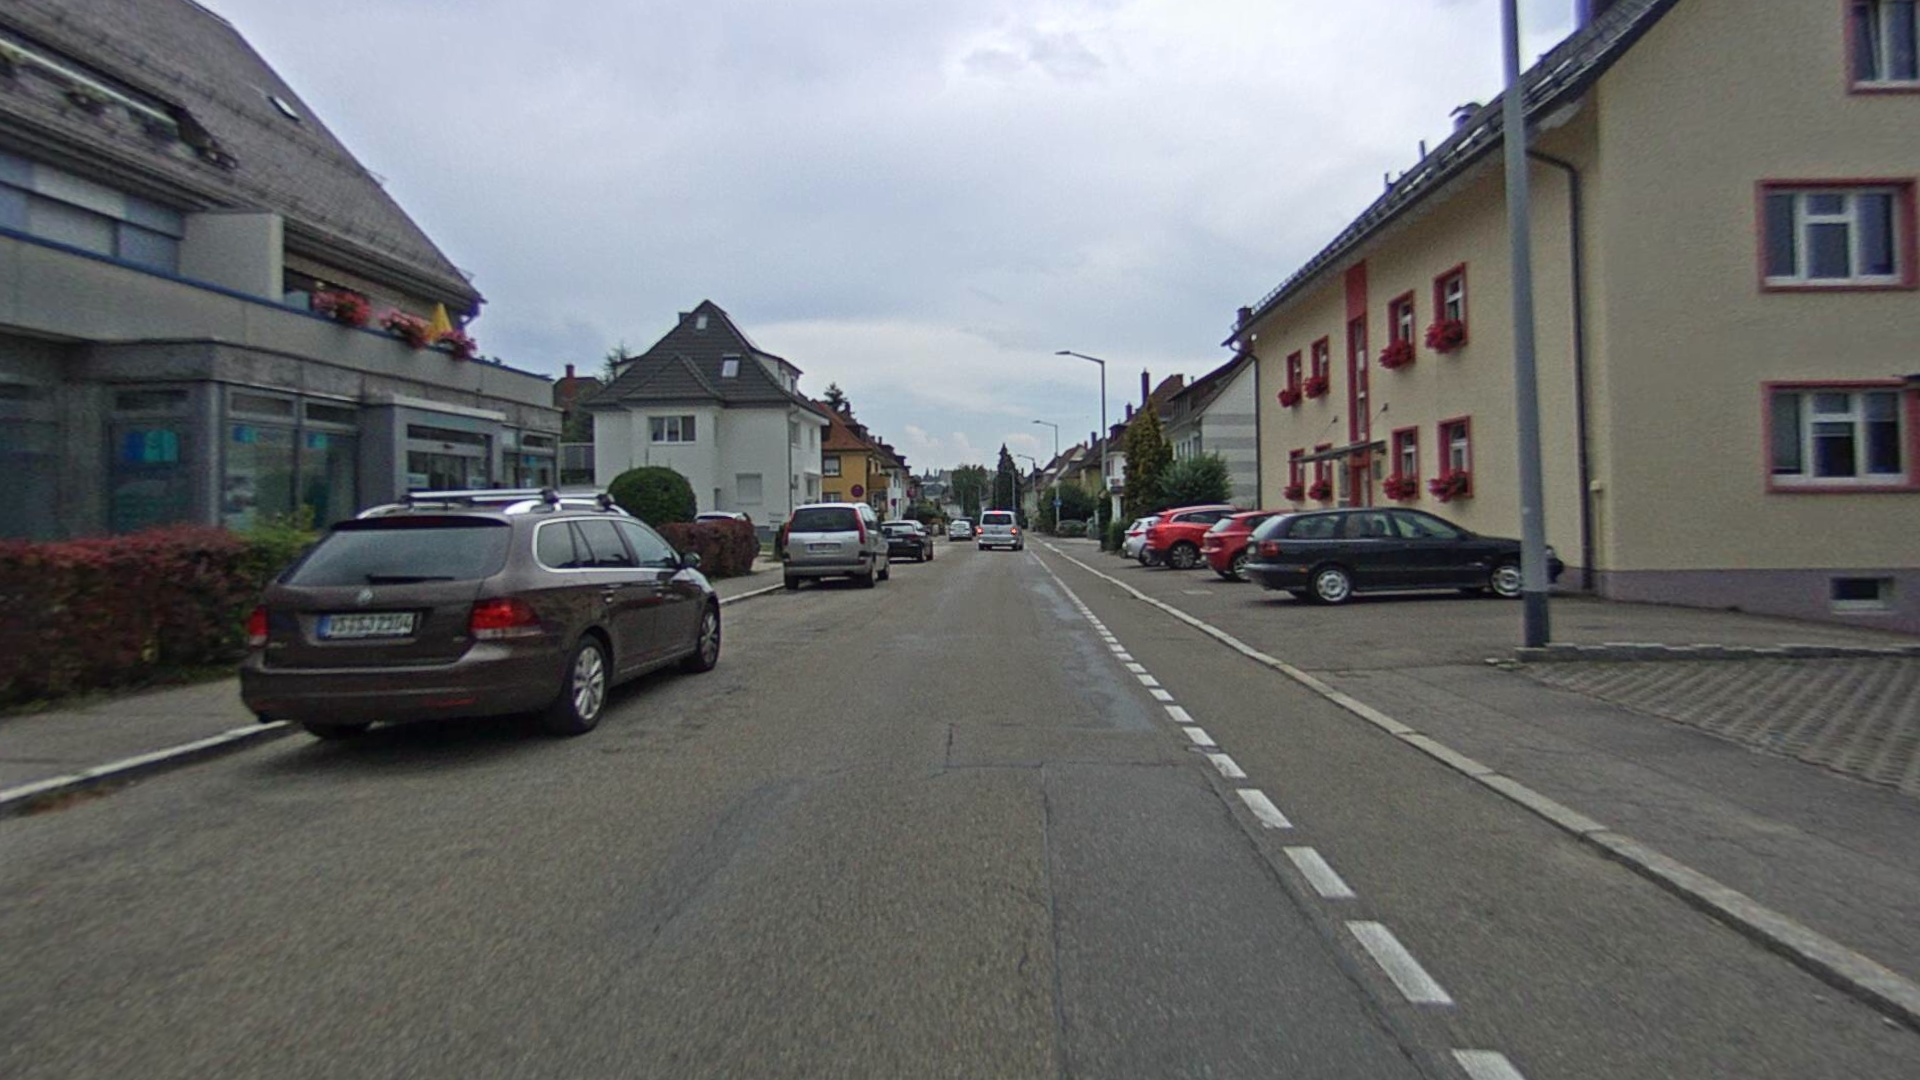car: (237, 485, 723, 742), (1246, 506, 1568, 607), (779, 500, 893, 593)
